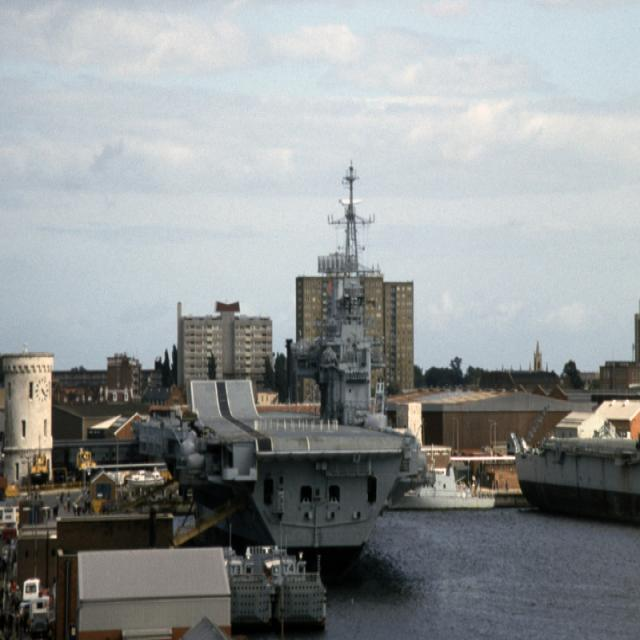Portanaves: (159, 146, 415, 565)
